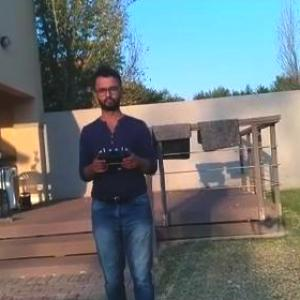follow: (74, 58, 166, 299)
